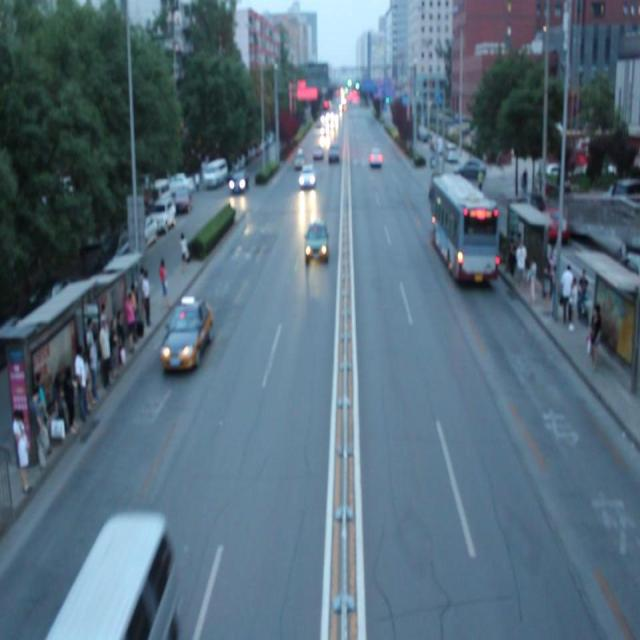car: (164, 298, 210, 369), (303, 218, 329, 261), (299, 162, 315, 188), (368, 145, 382, 167), (328, 142, 339, 162), (292, 149, 304, 165)
truck: (57, 511, 174, 640)
van: (429, 174, 497, 284)
